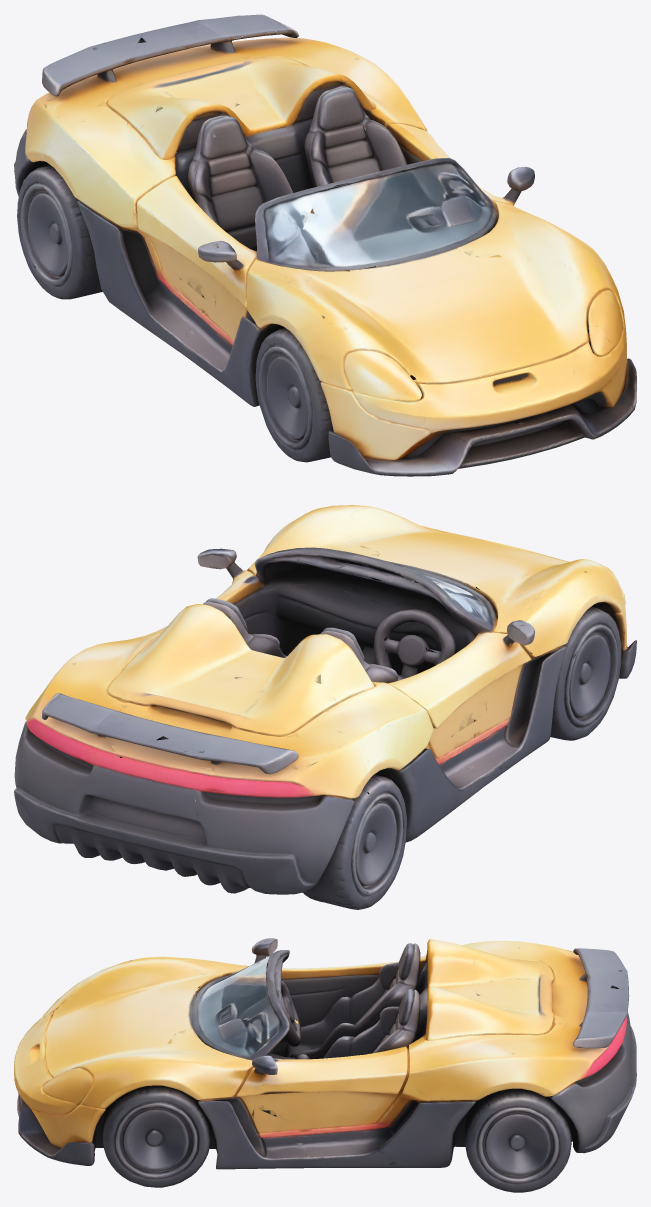
File: bolt-desktop.glb
3 views of the same model, one above another, from view 1: azimuth 30°, elevation 25°; view 2: azimuth 150°, elevation 25°; view 3: azimuth 270°, elevation 25° (orthographic). The views are drawn at different scales.
Visible parts, largest first — view 1: model; view 2: model; view 3: model.
Part boxes in pixels (x1=…): model: x1=14, y1=14, x2=636, y2=476; model: x1=14, y1=505, x2=636, y2=909; model: x1=14, y1=938, x2=636, y2=1192.
Size of the model in its own units: 0.9352 by 0.5532 by 1.89.
Materials: 1 (1 with a texture image).
